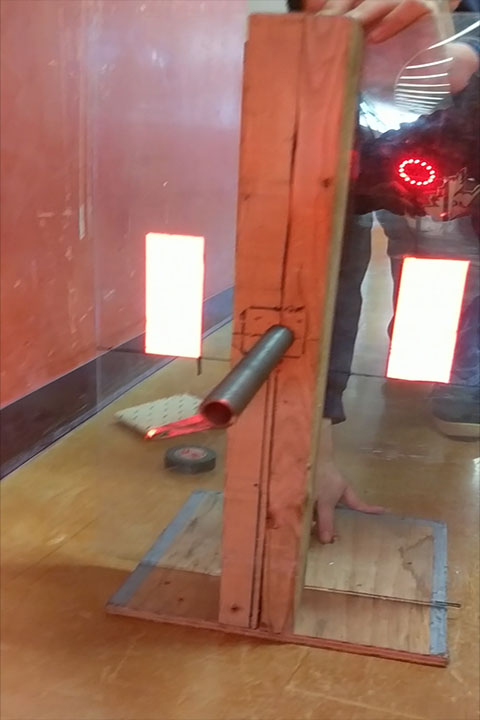gear: (385, 257, 469, 383), (144, 231, 204, 359)
